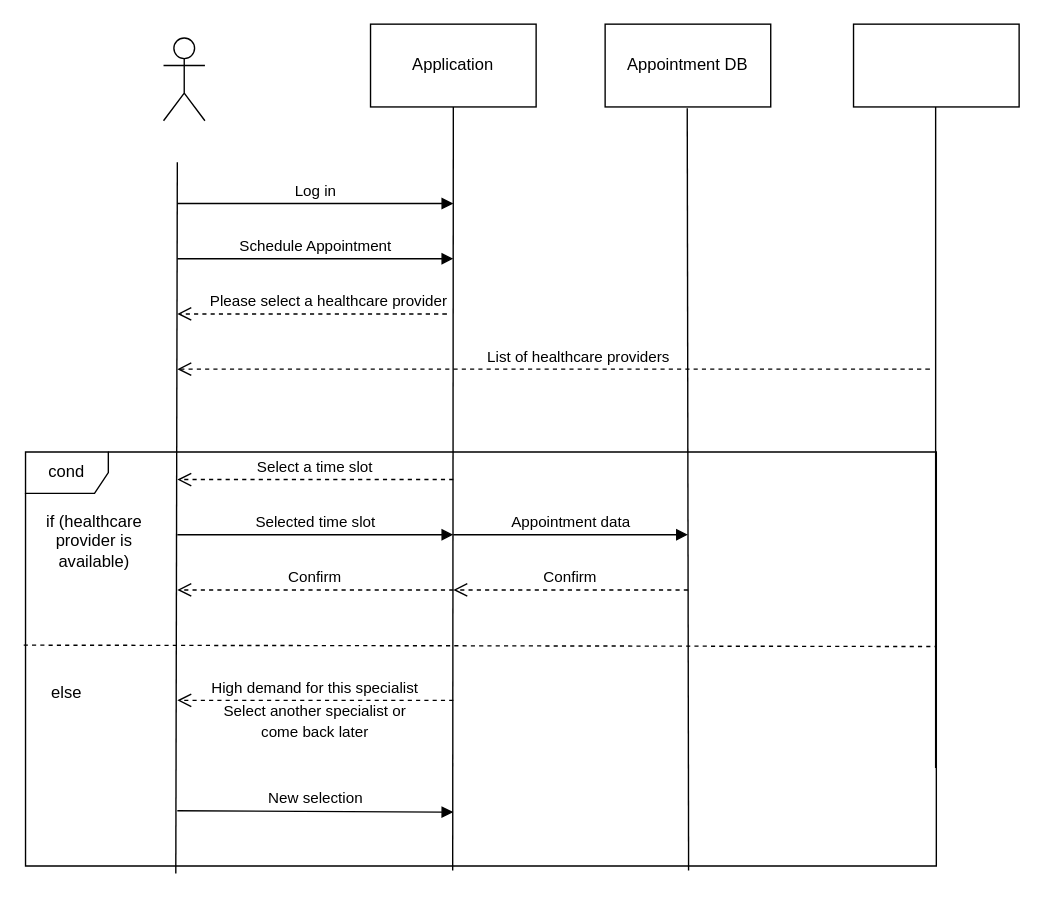
This 1045x900 diagram has some shape labels left out. The centre of each missing label's shape, as x and y in pixels:
Healthcare Provider DB: (935,65)
User: (183,79)
